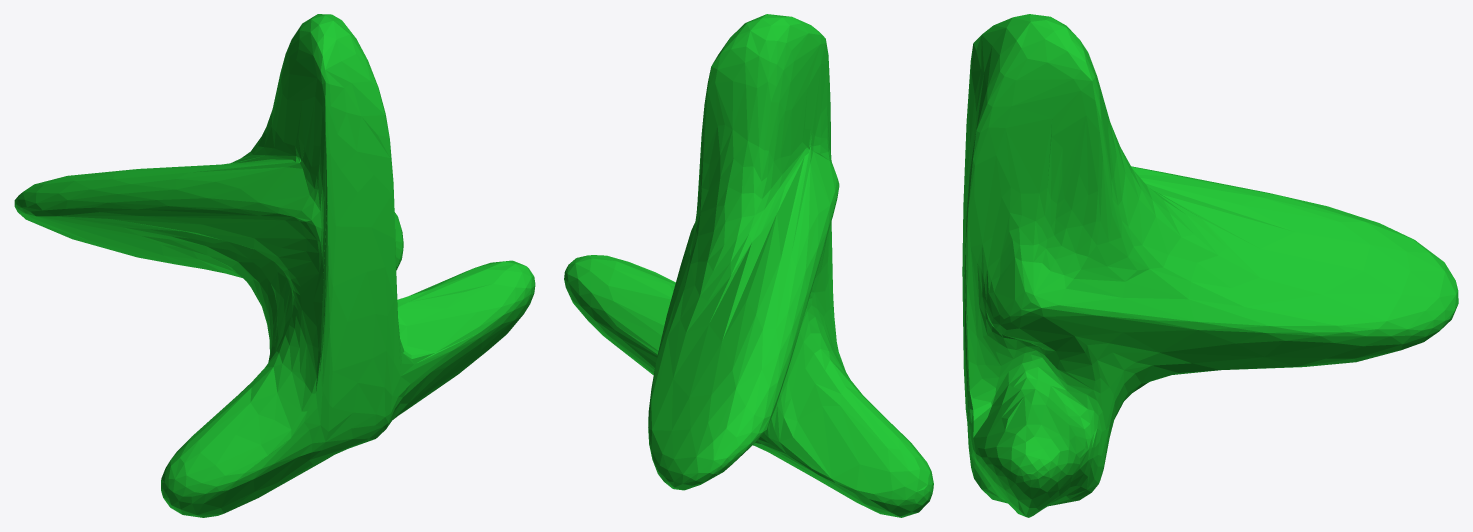
3 renders of one model, left to right at view 1: azimuth 30°, elevation 25°; view 2: azimuth 150°, elevation 25°; view 3: azimuth 270°, elevation 25°, orthographic. The views are drawn at different scales.
Visible parts, largest first — view 1: 382_Cube.1557; view 2: 382_Cube.1557; view 3: 382_Cube.1557.
Part boxes in pixels (x1,y1,x2,y2): 382_Cube.1557: (14,14,535,517); 382_Cube.1557: (564,14,933,517); 382_Cube.1557: (962,14,1458,517).
Size of the model in its own units: 10.6 by 13.04 by 11.1.
